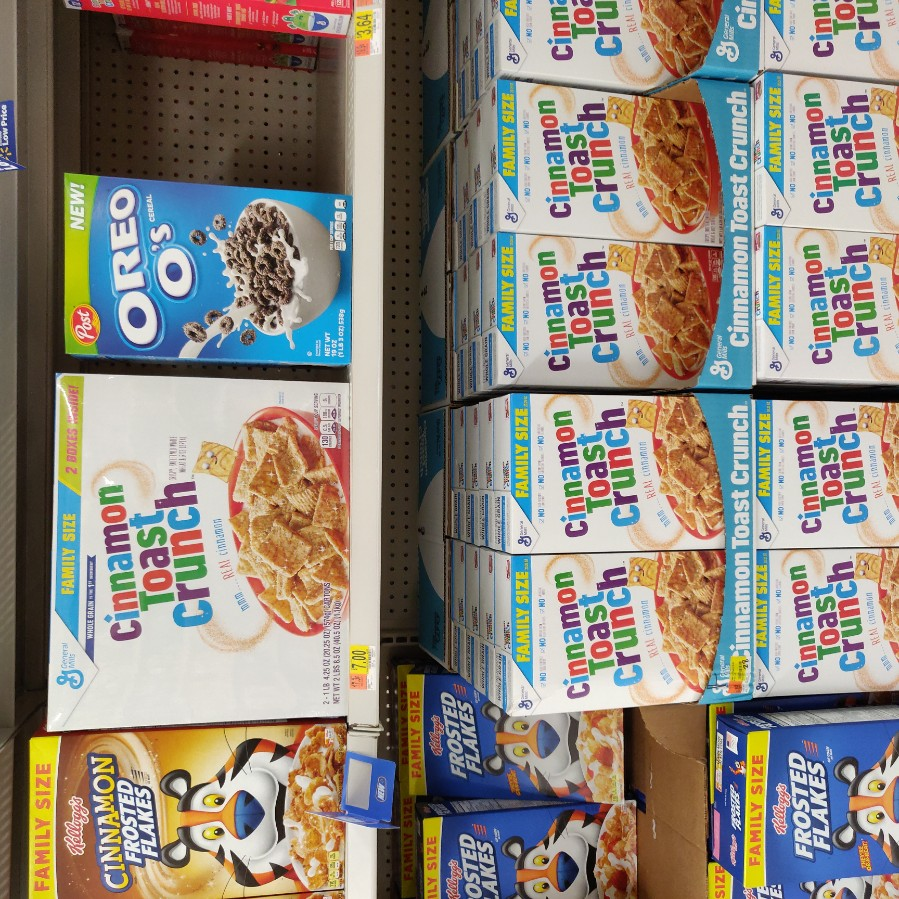Oreo-563424384: (55, 166, 360, 374)
